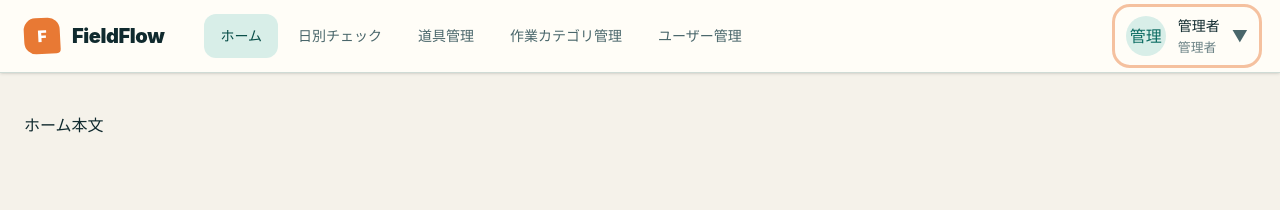
Test: AppLayout › アカウント操作はEscapeで閉じ、ユーザー情報ボタンへフォーカスを戻す
The image size is (1280, 210).
Click the button with aria-label "アカウントメニューを開く" at (1187, 36), box [1118, 10, 1256, 62]
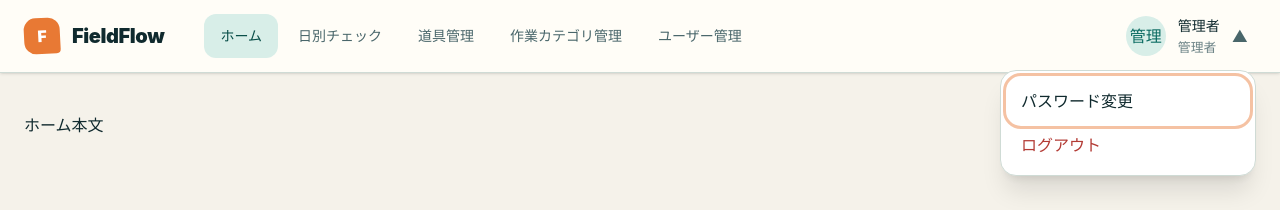
Press Escape in the navigation bar named "アカウント操作", box [1000, 70, 1256, 176]
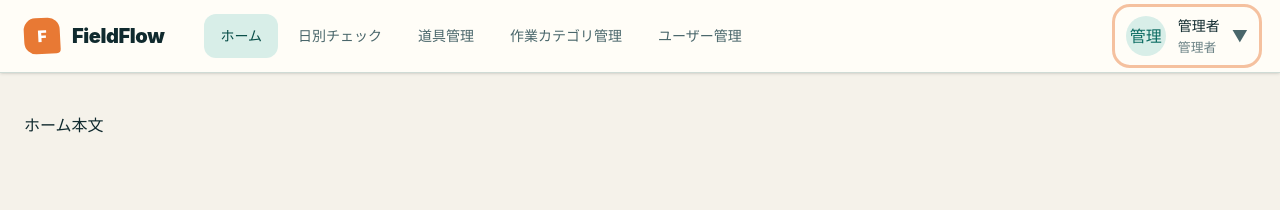
Now the navigation bar "アカウント操作" is gone
